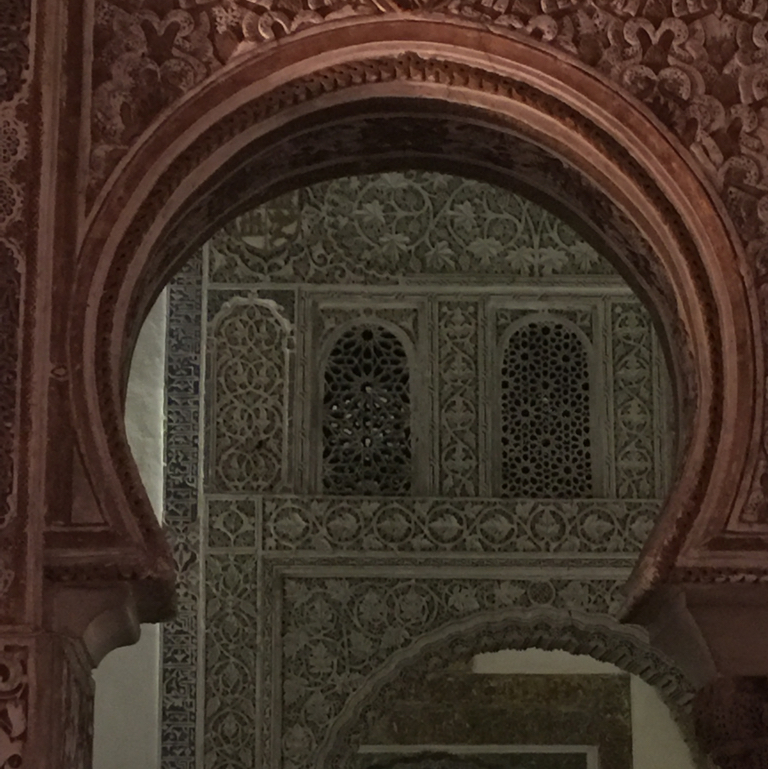arco-herradura: (58, 4, 738, 654)
